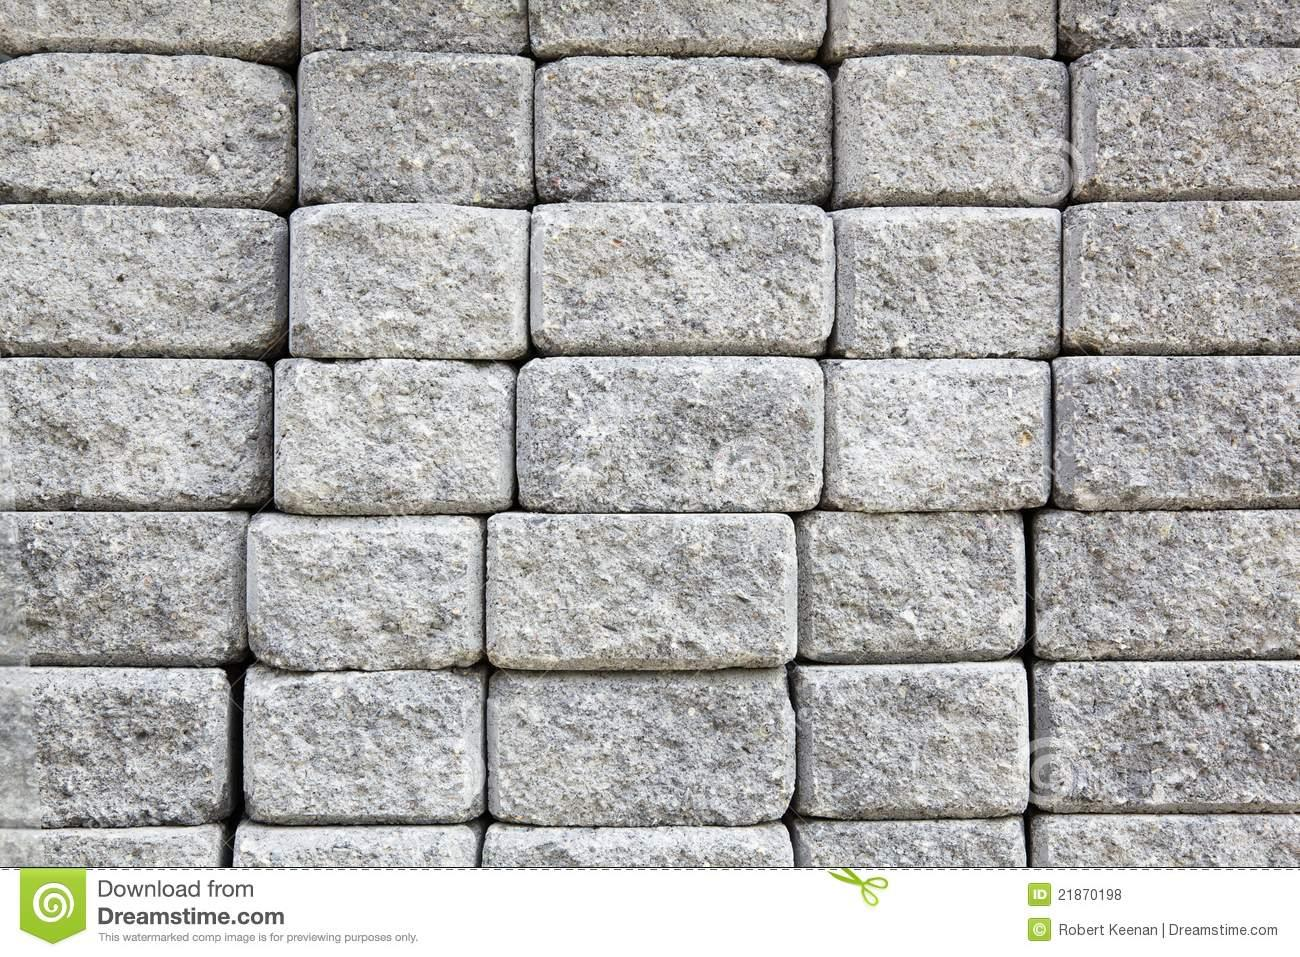brick: (488, 510, 797, 667), (518, 357, 823, 513), (528, 205, 835, 357), (490, 675, 790, 823), (535, 60, 830, 200), (1033, 510, 1298, 662), (2, 205, 280, 350), (5, 52, 285, 195), (7, 357, 273, 505), (1038, 660, 1298, 810), (1055, 352, 1298, 508), (245, 672, 485, 828), (5, 515, 245, 670), (5, 662, 225, 828), (295, 50, 530, 205), (273, 360, 508, 513), (250, 515, 480, 670), (828, 352, 1053, 510), (288, 205, 523, 355), (802, 665, 1033, 818), (1063, 198, 1298, 345), (802, 510, 1025, 660), (1078, 42, 1298, 195), (840, 52, 1070, 198), (843, 210, 1060, 352)
